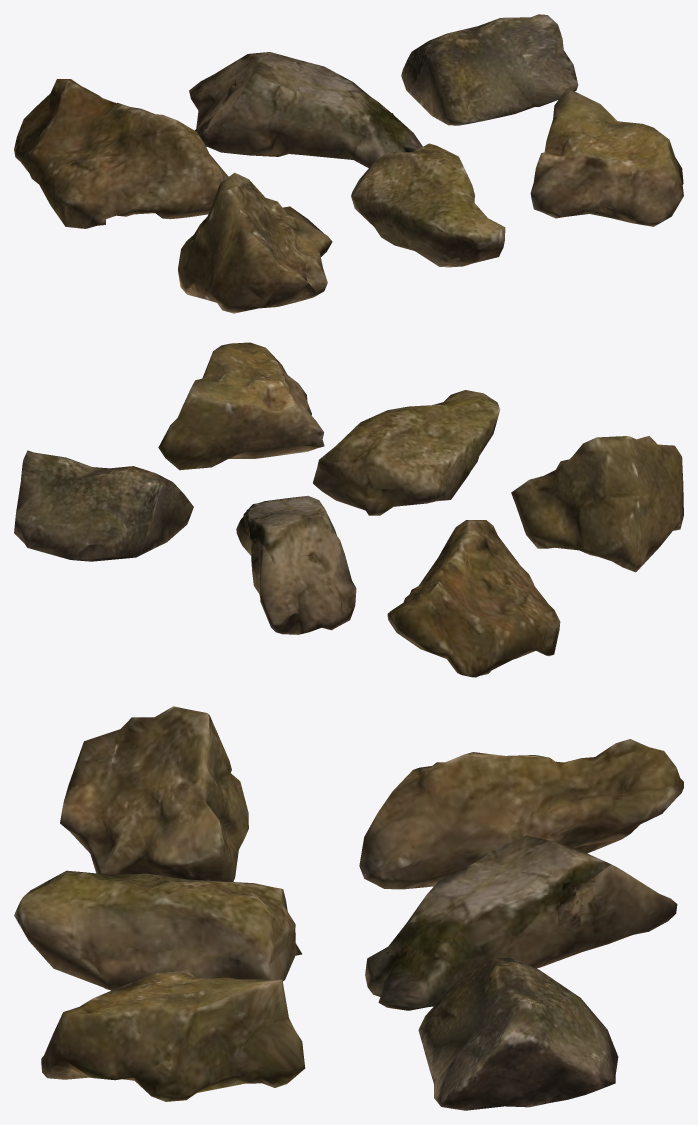
File: rochers-mousse.glb
The picture shows the model from 3 angles, top to bottom: view 1: azimuth 30°, elevation 25°; view 2: azimuth 150°, elevation 25°; view 3: azimuth 270°, elevation 25°; orthographic projection. The views are drawn at different scales.
Visible parts, largest first — view 1: rock_moss_set_01_rock01; view 2: rock_moss_set_01_rock01; view 3: rock_moss_set_01_rock01.
Part boxes in pixels (left/top/right/bottom): rock_moss_set_01_rock01: left=14, top=14, right=683, bottom=313; rock_moss_set_01_rock01: left=14, top=342, right=683, bottom=677; rock_moss_set_01_rock01: left=14, top=706, right=683, bottom=1110.
Bounding box in the file's own units: 8 × 1.76 × 6.94.
Materials: 1 (1 with a texture image).
